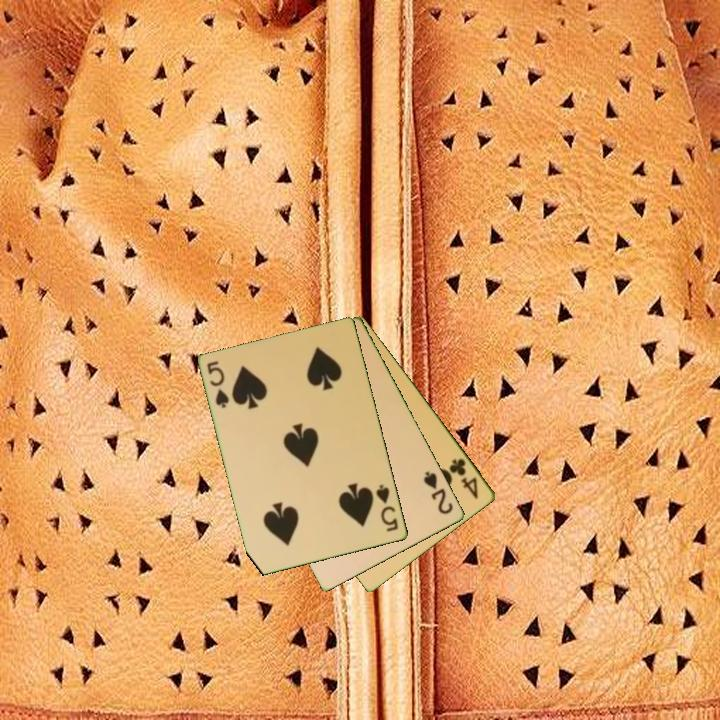2s: (420, 468, 456, 517)
4c: (446, 455, 482, 502)
5s: (204, 358, 233, 411), (373, 481, 401, 535)
